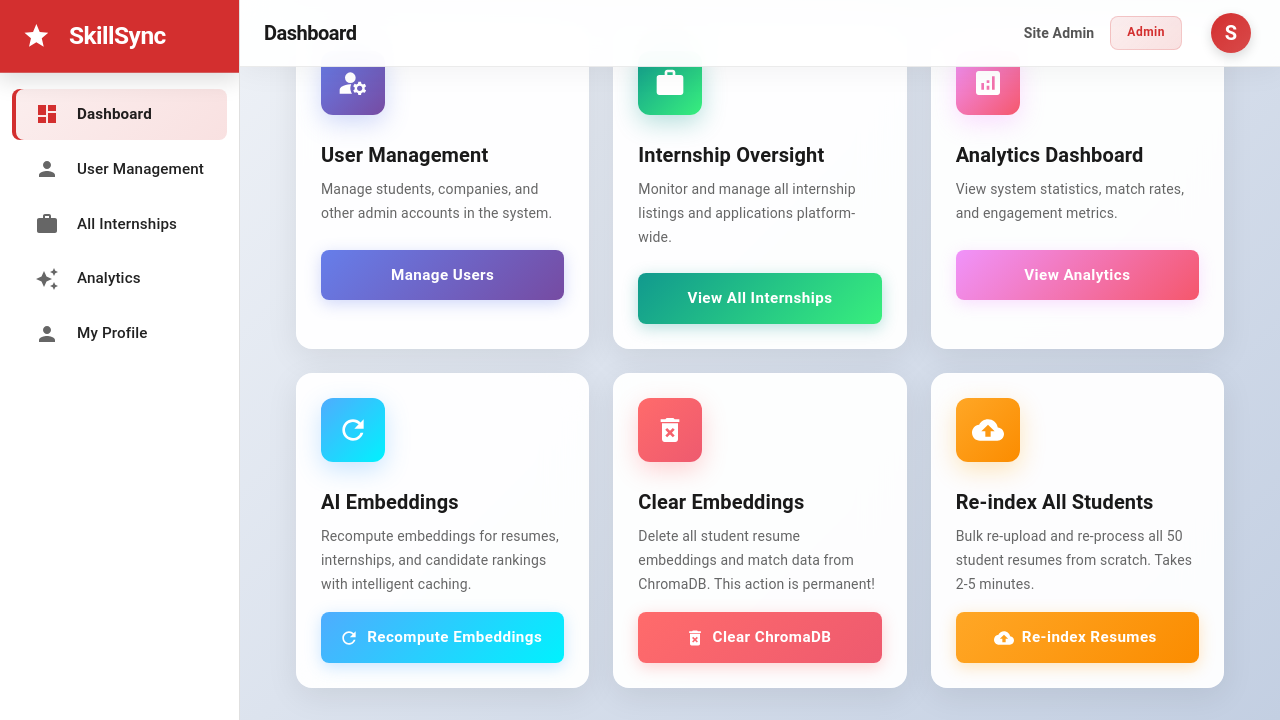
Scenario: admins load the system status and can recompute embeddings
(page scrolled)
expect the heading "User Management" is shown: met, box top-left (321, 143), bottom-right (488, 167)
Click the button "Recompute Embeddings": click(443, 638) top-left (321, 612), bottom-right (564, 663)
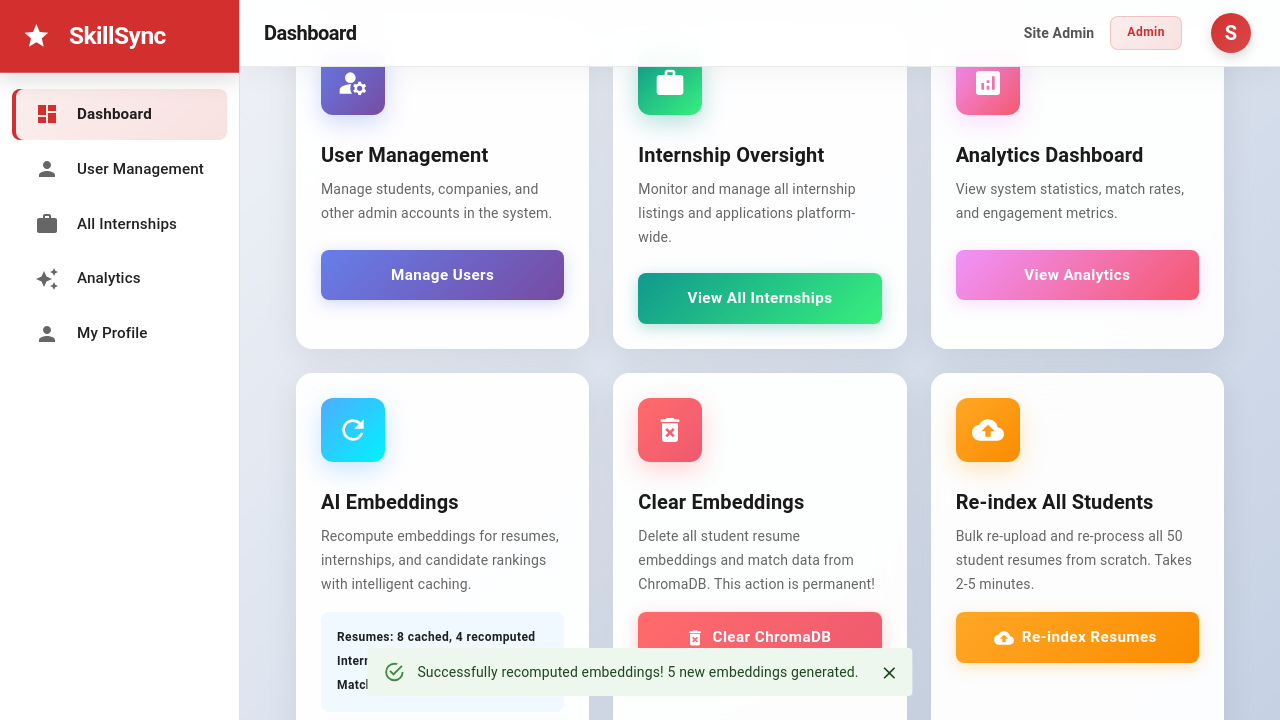
expect the text "5 new embeddings generated" is shown: met, box top-left (417, 664), bottom-right (859, 680)
expect the text "Resumes: 8 cached, 4 recomputed" is shown: met, box top-left (337, 628), bottom-right (548, 648)
expect the text "Matches: 30 recalculated" is shown: met, box top-left (337, 678), bottom-right (483, 692)
